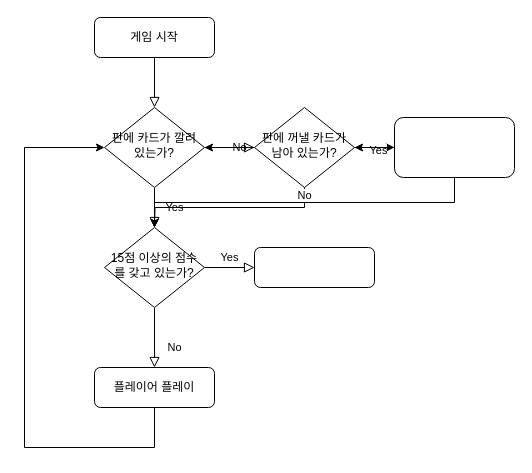
This 532x473 diagram has some shape labels left out. The box of each missing label's shape, as (x1, y1, x2, y2) in pixels:
게임 끝: (254, 246, 374, 288)
카드 깔기: (394, 116, 514, 178)
